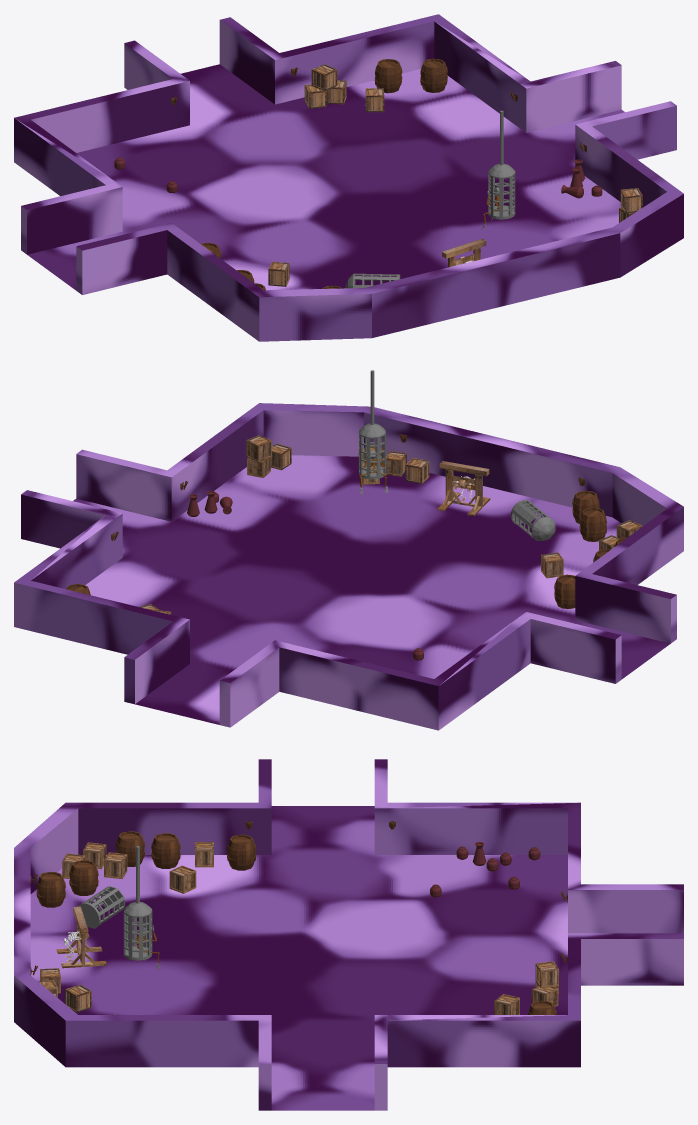
File: room_T_Pom.glb
3 renders of one model, top to bottom at view 1: azimuth 30°, elevation 25°; view 2: azimuth 150°, elevation 25°; view 3: azimuth 270°, elevation 25°, orthographic. The views are drawn at different scales.
Parts seen in each view (by area): view 1: Plane.001, Plane.003, Cylinder.015, beczka.005, beczka.004, Cube.015, Cube.014, Cylinder.016, Cube.011, Cube.017; view 2: Plane.003, Plane.001, Cylinder.015, Cube.015, Cylinder.016, beczka.003, beczka.007, Cube.011, Cube.004, beczka.006; view 3: Plane.003, Plane.001, Cylinder.015, Cube.015, Cylinder.016, beczka.006, beczka.003, beczka.007, beczka.001, beczka.002, Cube.017, Cube.006 (+2 smaller).
Part boxes in pixels (box(x1,y1,x2,y2)): Plane.001: box(14, 14, 683, 341); Plane.003: box(27, 64, 624, 290); Cylinder.015: box(481, 110, 515, 229); beczka.005: box(420, 58, 447, 92); beczka.004: box(374, 59, 402, 93); Cube.015: box(442, 238, 486, 267); Cube.014: box(311, 64, 337, 91); Cylinder.016: box(345, 273, 400, 288); Cube.011: box(620, 188, 642, 213); Cube.017: box(268, 261, 289, 286); Plane.003: box(73, 455, 670, 724); Plane.001: box(14, 403, 683, 730); Cylinder.015: box(359, 370, 388, 494); Cube.015: box(437, 461, 490, 516); Cylinder.016: box(510, 500, 555, 540); beczka.003: box(579, 507, 606, 541); beczka.007: box(554, 574, 575, 608); Cube.011: box(246, 435, 271, 461); Cube.004: box(405, 458, 429, 483); beczka.006: box(572, 490, 599, 523); Plane.003: box(30, 806, 567, 1110); Plane.001: box(14, 759, 683, 1110); Cylinder.015: box(123, 846, 159, 969); Cube.015: box(56, 906, 106, 968); Cylinder.016: box(78, 886, 124, 928); beczka.006: box(36, 872, 65, 907); beczka.003: box(69, 860, 98, 895); beczka.007: box(227, 834, 256, 870); beczka.001: box(151, 833, 180, 868); beczka.002: box(115, 831, 145, 866); Cube.017: box(169, 865, 196, 893); Cube.006: box(65, 984, 91, 1012).
Size of the model in its own units: 28 by 6.33 by 26.
Materials: 7 (4 with a texture image).
